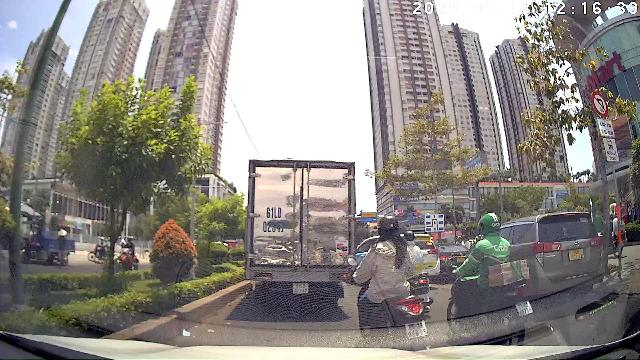103c-cam-oto-re-trai: (590, 89, 608, 116)
